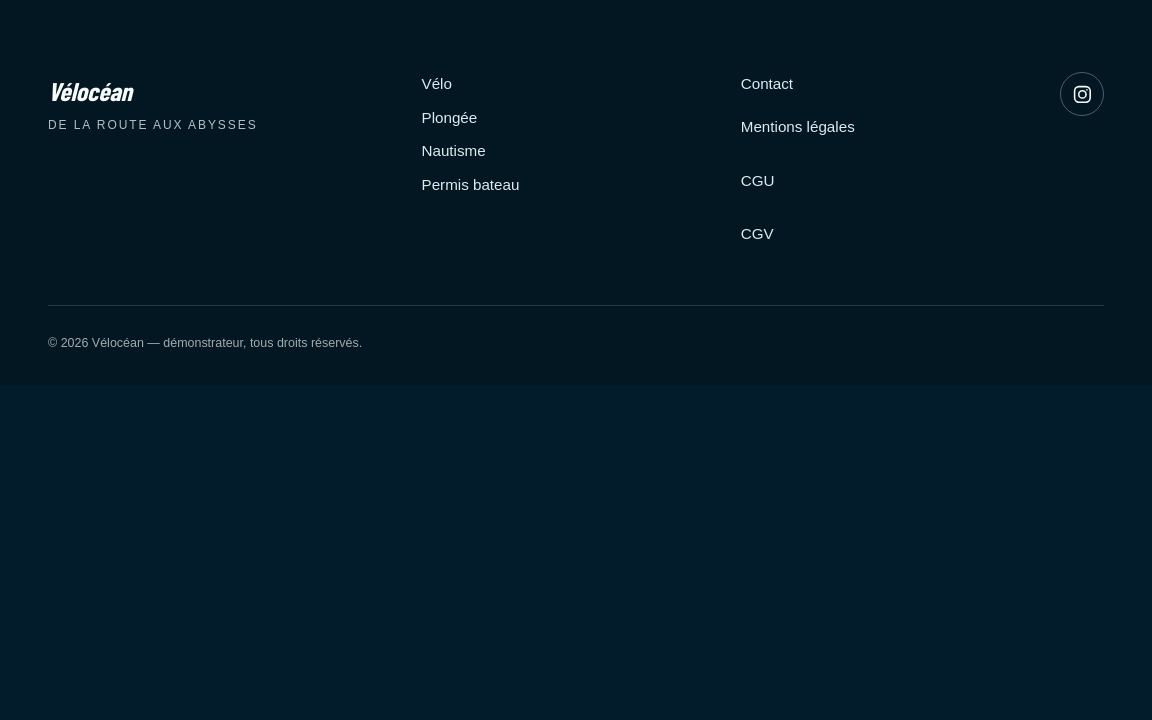
Test: Footer › ouvre les Mentions légales dans un dialog accessible et le referme
The width and height of the screenshot is (1152, 720).
Click the button "Mentions légales" at (798, 128), box [741, 106, 855, 150]
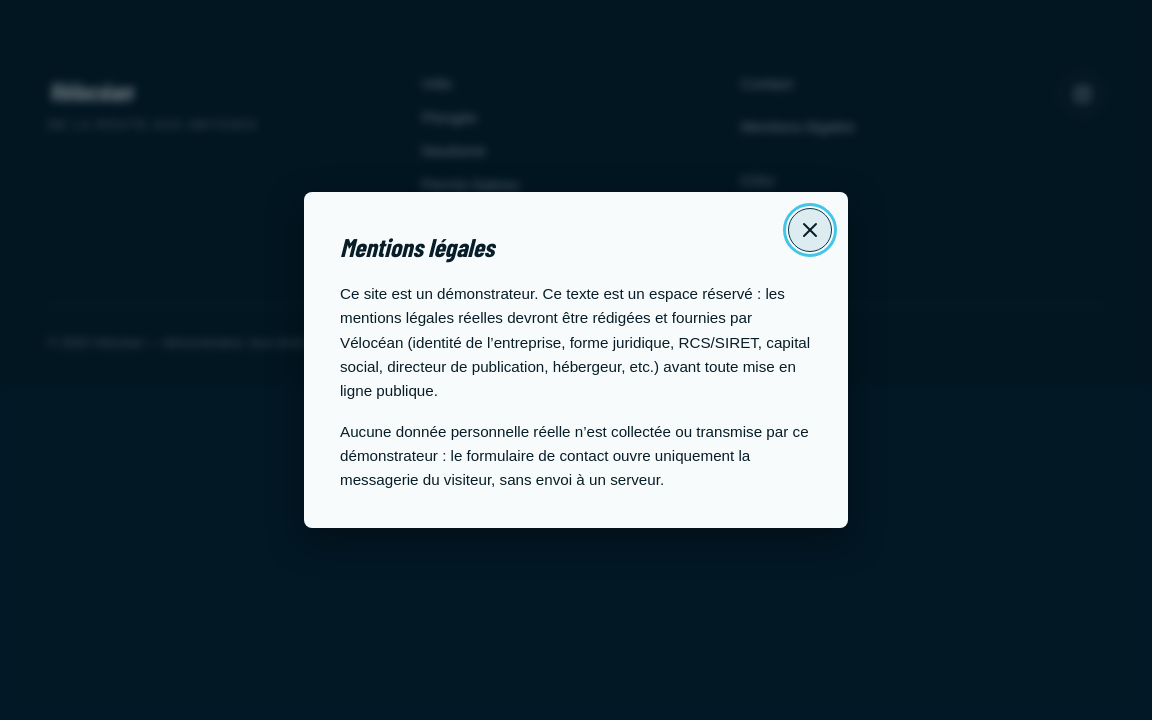
Now the dialog "Mentions légales" is shown, box [304, 192, 848, 528]
Now the text "démonstrateur" is shown, box [340, 285, 810, 399]
Click the button named "Fermer" at (810, 230), box [788, 208, 832, 252]
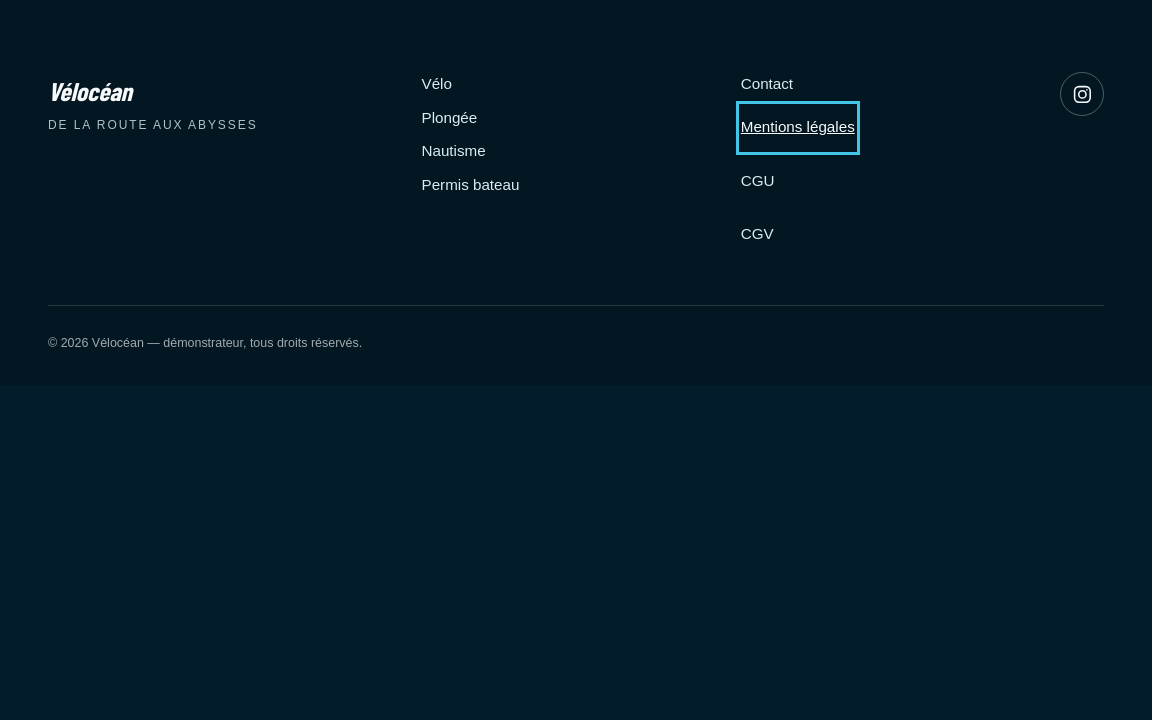
Now the dialog is gone
